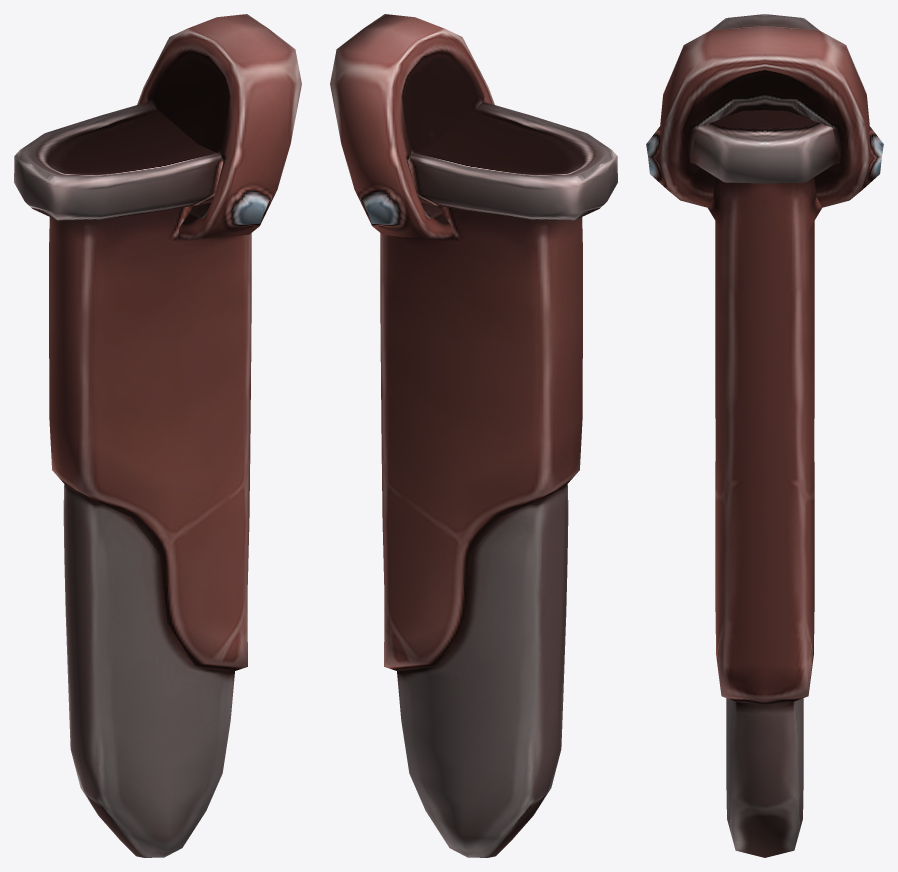
The model's file is Dagger Sheath.FBX.
3 renders of one model, left to right at view 1: azimuth 30°, elevation 25°; view 2: azimuth 150°, elevation 25°; view 3: azimuth 270°, elevation 25°, orthographic. The views are drawn at different scales.
Parts seen in each view (by area): view 1: Dagger Sheath; view 2: Dagger Sheath; view 3: Dagger Sheath.
Boxes of the visible parts, box(x1,y1,x2,y2) form: Dagger Sheath: box(14, 14, 301, 857); Dagger Sheath: box(330, 14, 617, 857); Dagger Sheath: box(646, 14, 883, 857).
Size of the model in its own units: 12.57 by 9.71 by 39.21.
